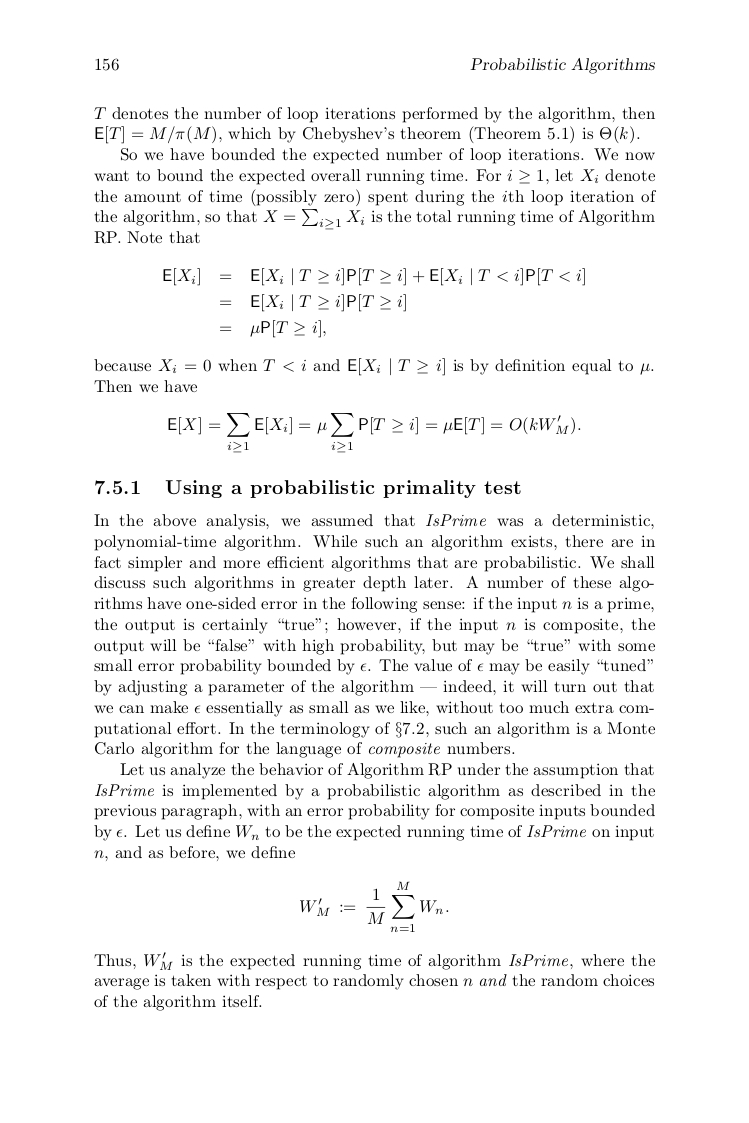formula: (168, 413, 580, 452), (163, 267, 584, 286), (300, 880, 448, 932), (220, 292, 405, 312), (220, 319, 325, 338)
